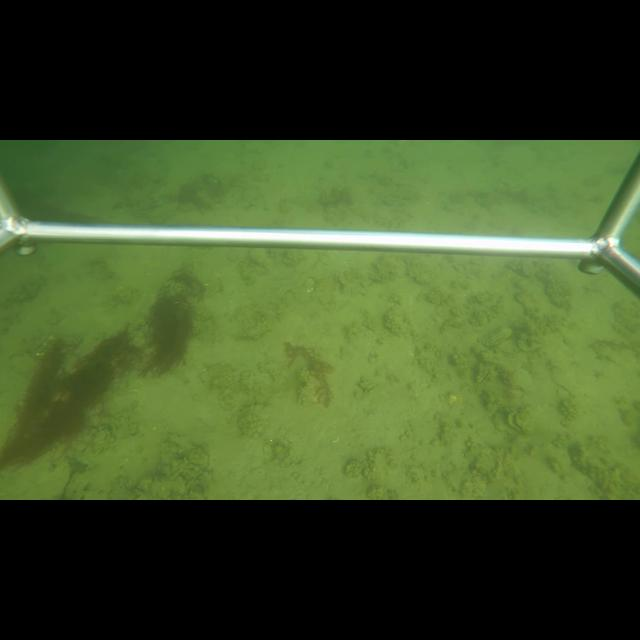Oyster-Closed: (476, 325, 513, 348), (474, 362, 494, 384)
Oyster-Open: (506, 410, 535, 435)
